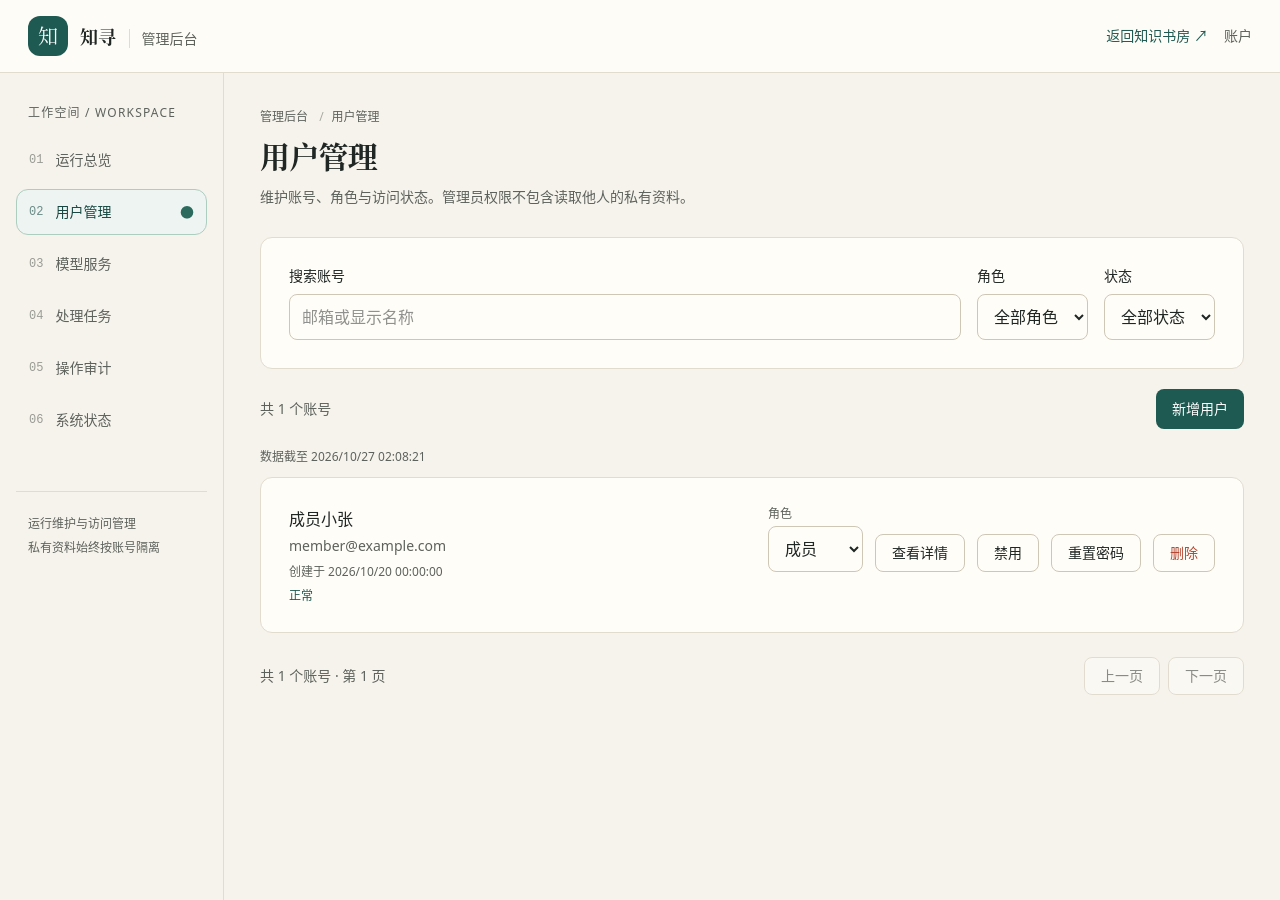
Test case: 过期响应不覆盖最新结果
Select "管理员" in the dropdown with test id "admin-role-filter" at (1032,317), box [977, 294, 1088, 340]
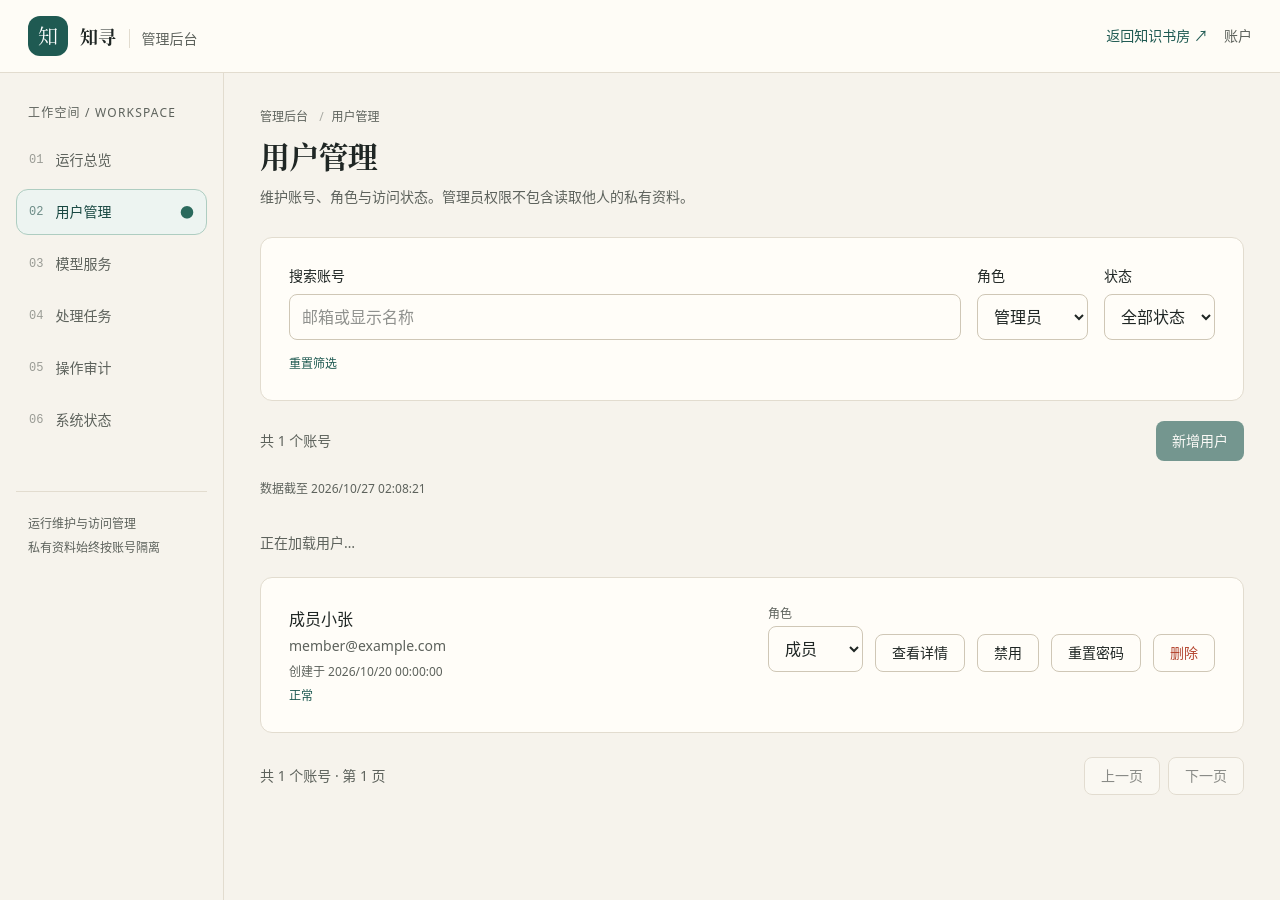
Select "只读" in the dropdown with test id "admin-role-filter" at (1032,317), box [977, 294, 1088, 340]
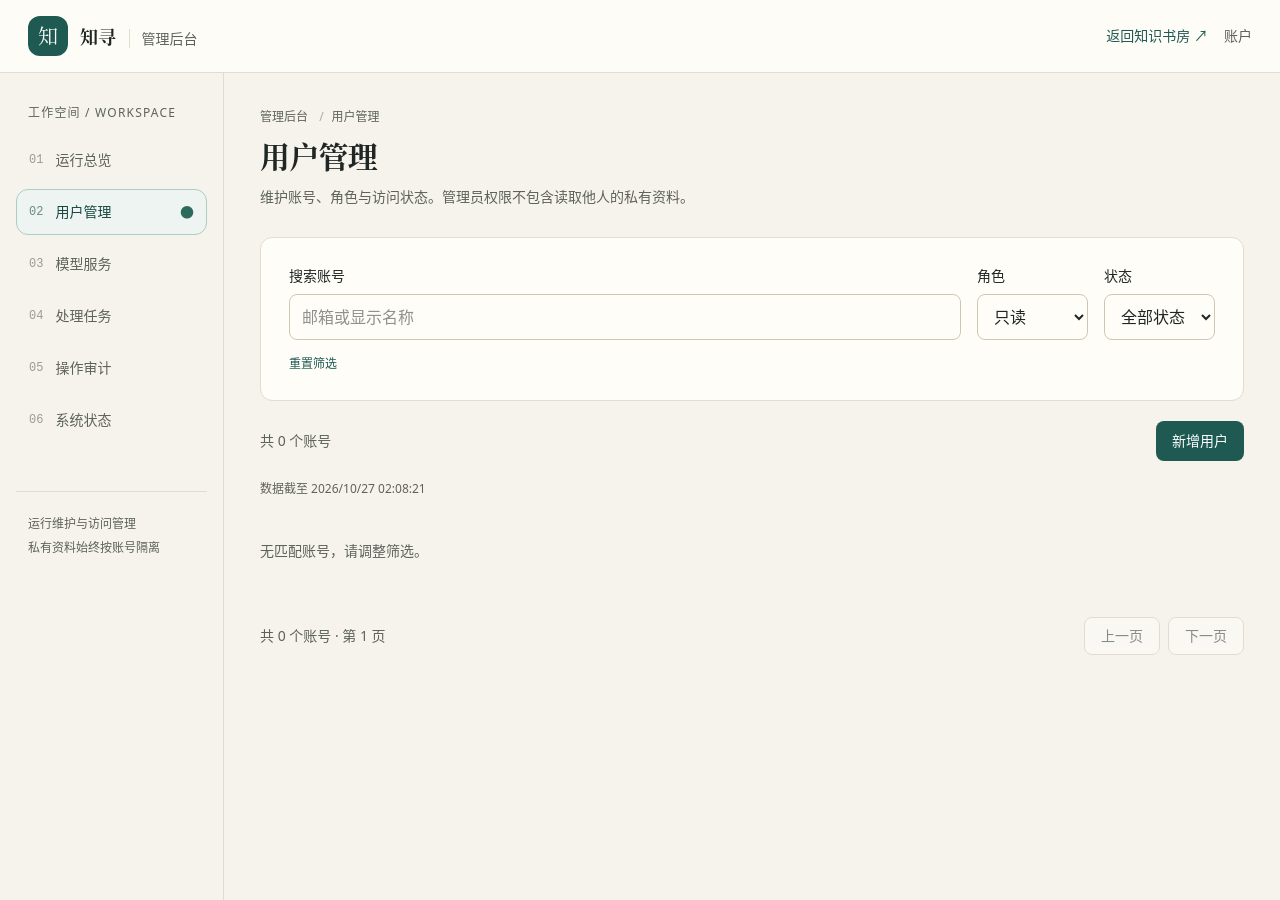
Now no list items with test id "admin-user-row" are shown
Now the text "无匹配账号，请调整筛选。" is shown, box [260, 541, 428, 560]
